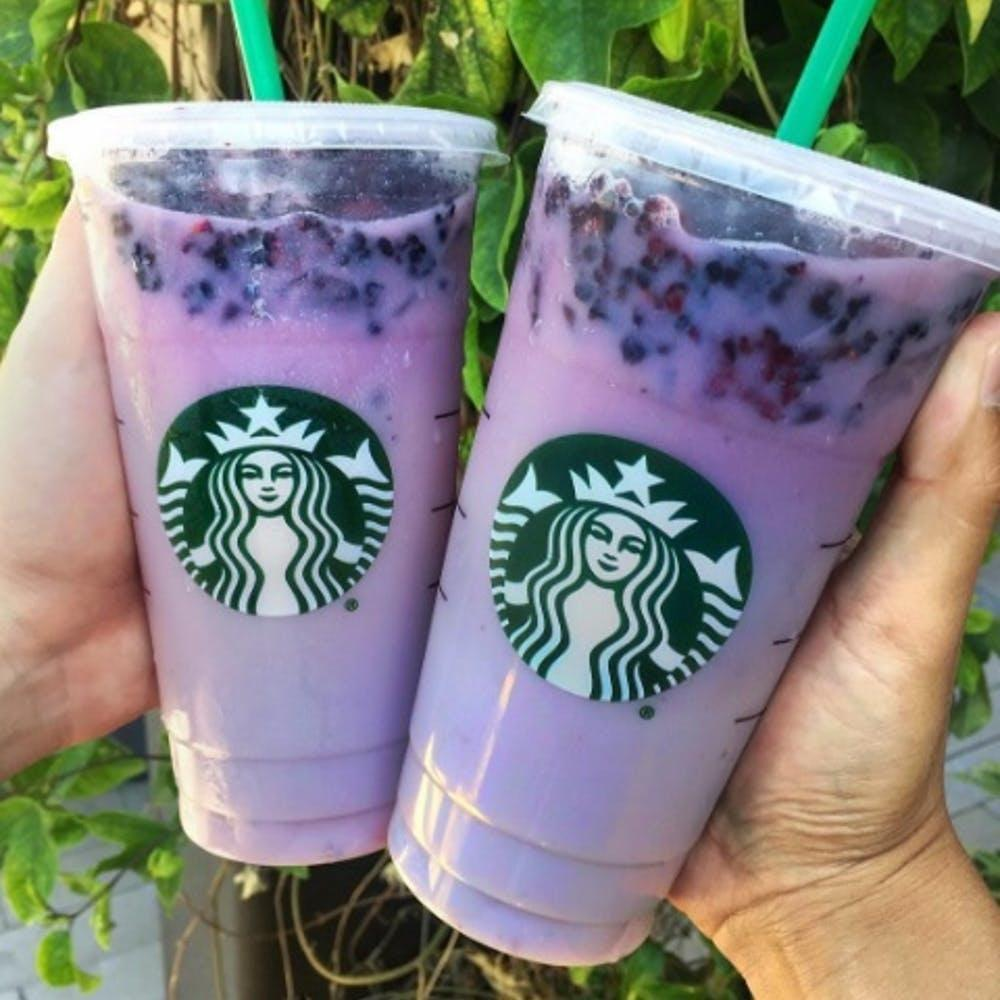cup-disposable: (386, 71, 996, 969), (48, 97, 503, 869)
